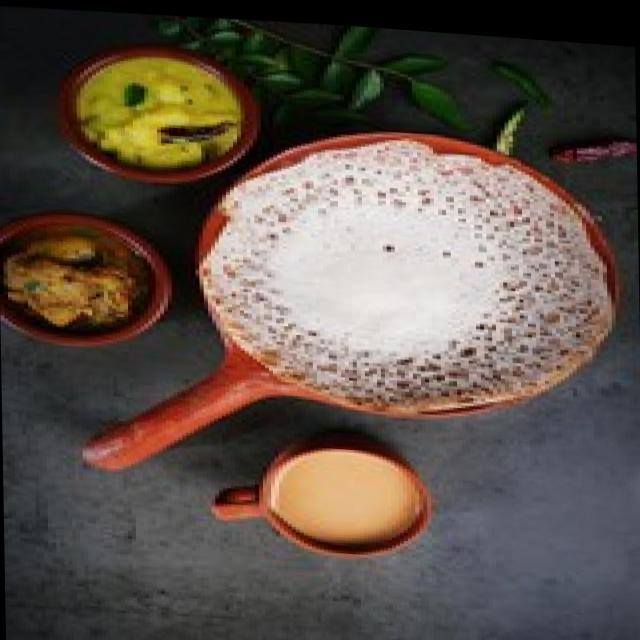AAPAM: (203, 140, 611, 415)
CURRY: (65, 50, 260, 182), (2, 215, 168, 345)
